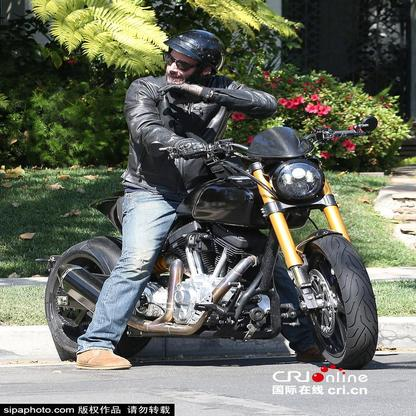target: (37, 28, 384, 374)
